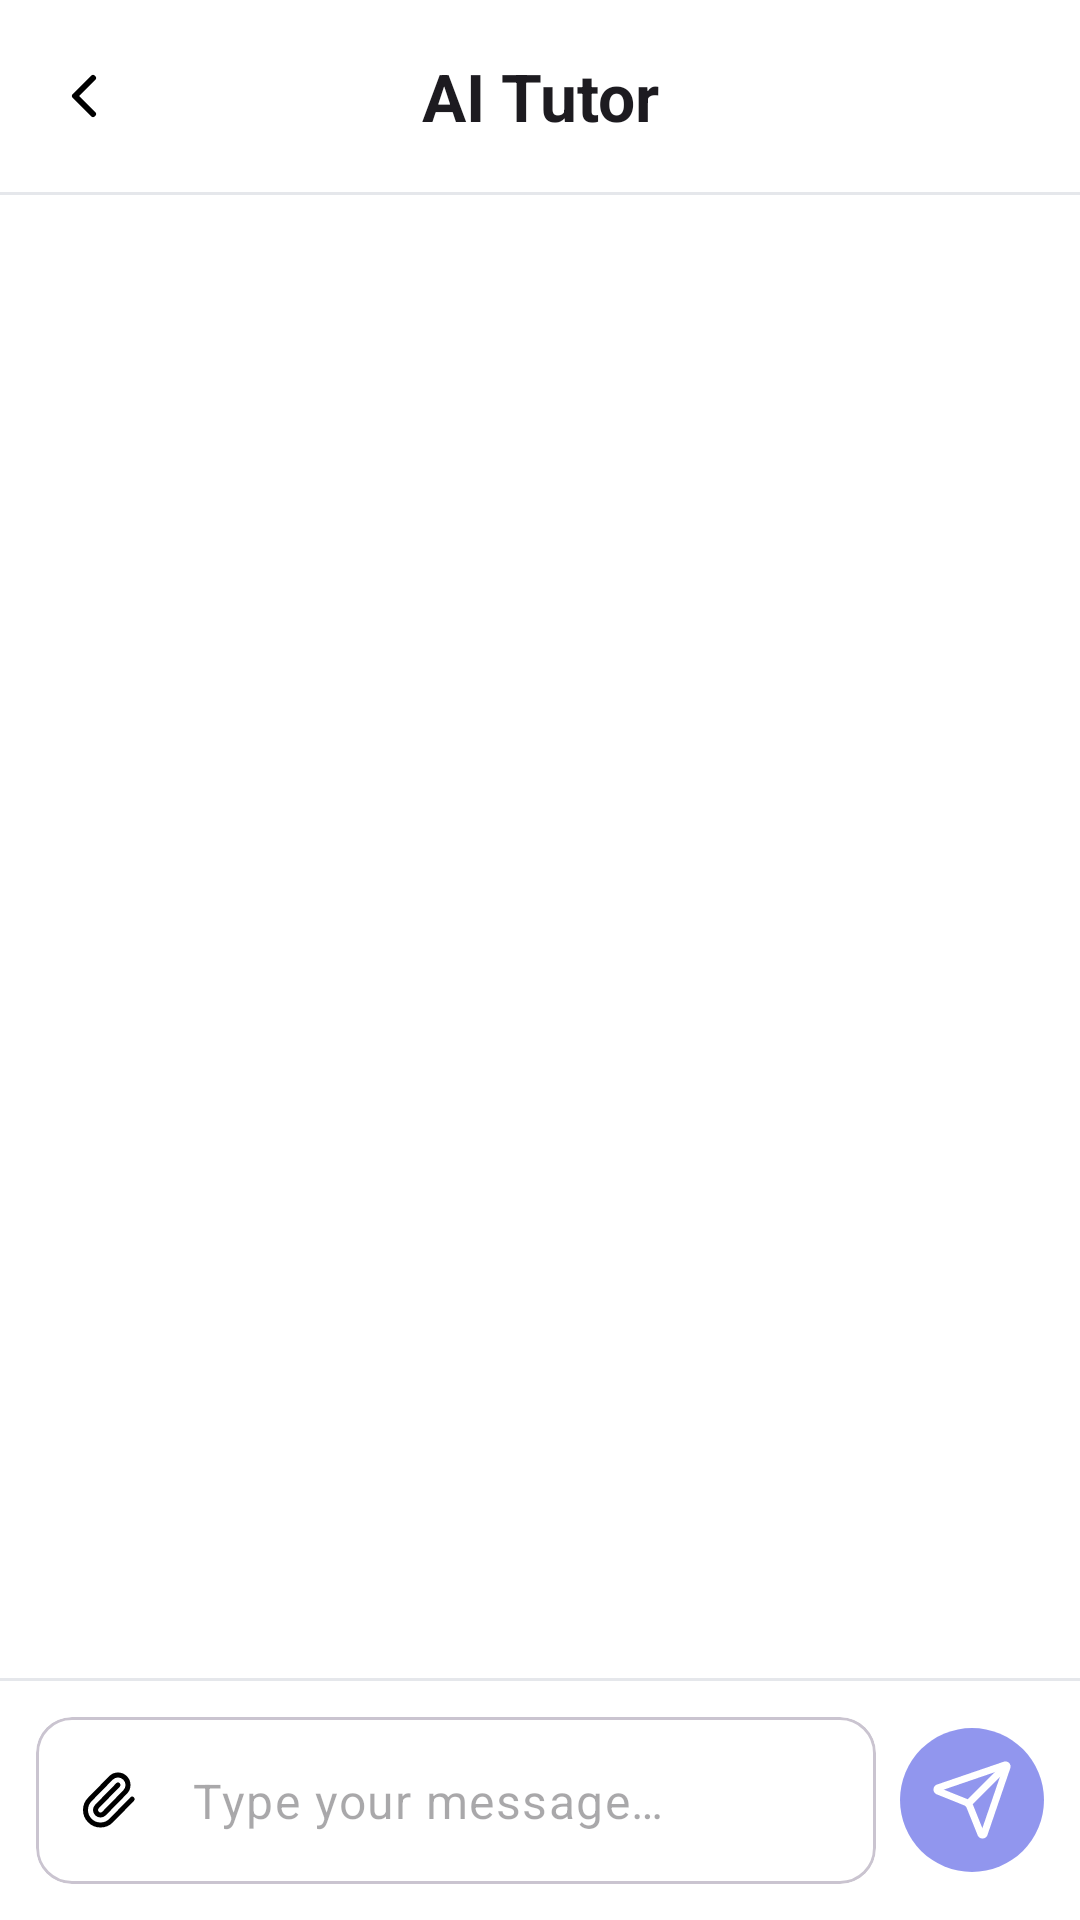

Point at icon controls on the screen. Image size 1080 x 1920, points as (x,y).
send: (972,1800)
